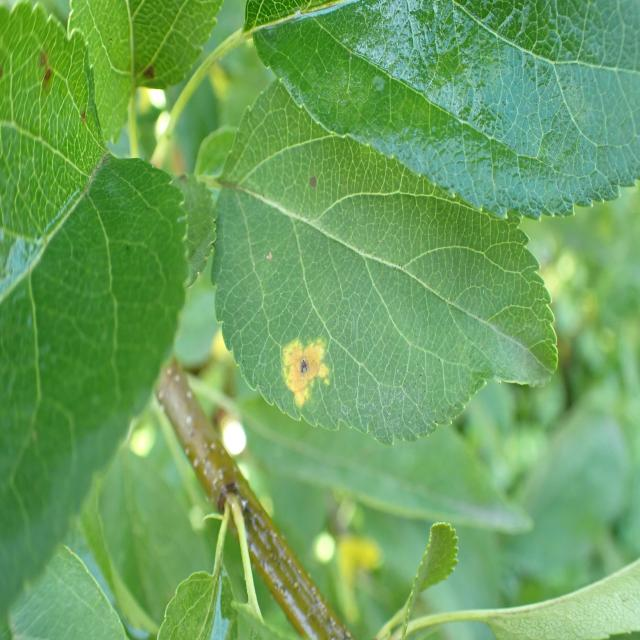Rust: (265, 321, 340, 413)
